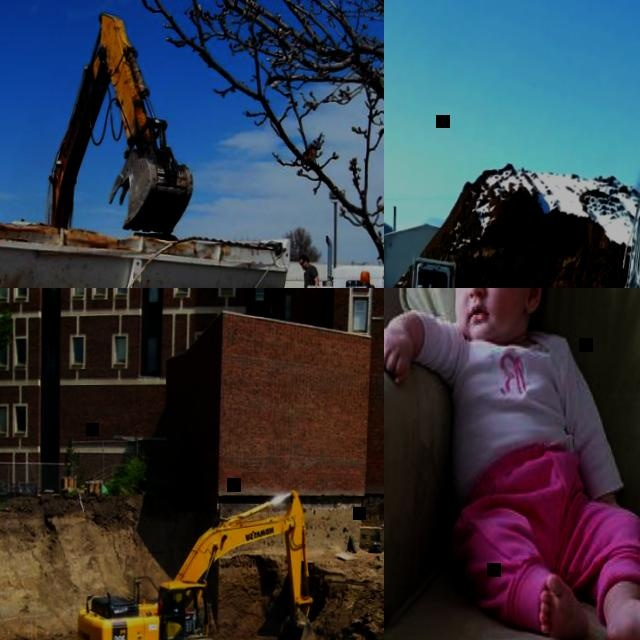NO-Hardhat: (299, 254, 308, 261)
NO-Mask: (457, 298, 511, 340), (302, 262, 306, 270)
NO-Safety Vest: (452, 339, 571, 487), (304, 264, 314, 288)
Person: (384, 288, 640, 640), (299, 254, 320, 288), (184, 595, 190, 616)
machinery: (0, 6, 196, 288), (74, 482, 316, 640), (0, 198, 384, 288), (551, 142, 640, 288), (387, 253, 473, 288)
